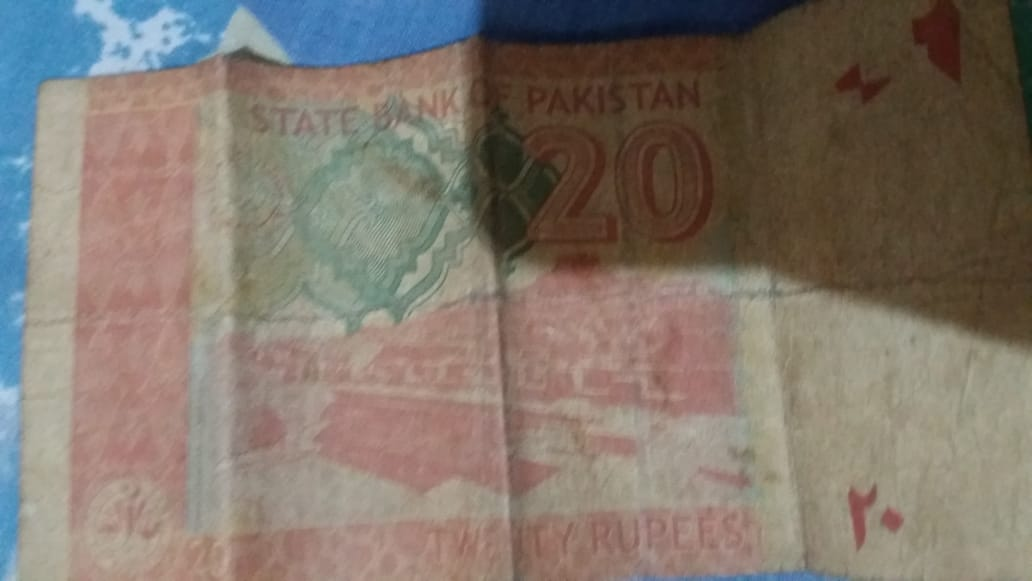20 rupee: (18, 64, 1024, 574)
